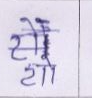au_matra: (34, 19, 61, 84)
